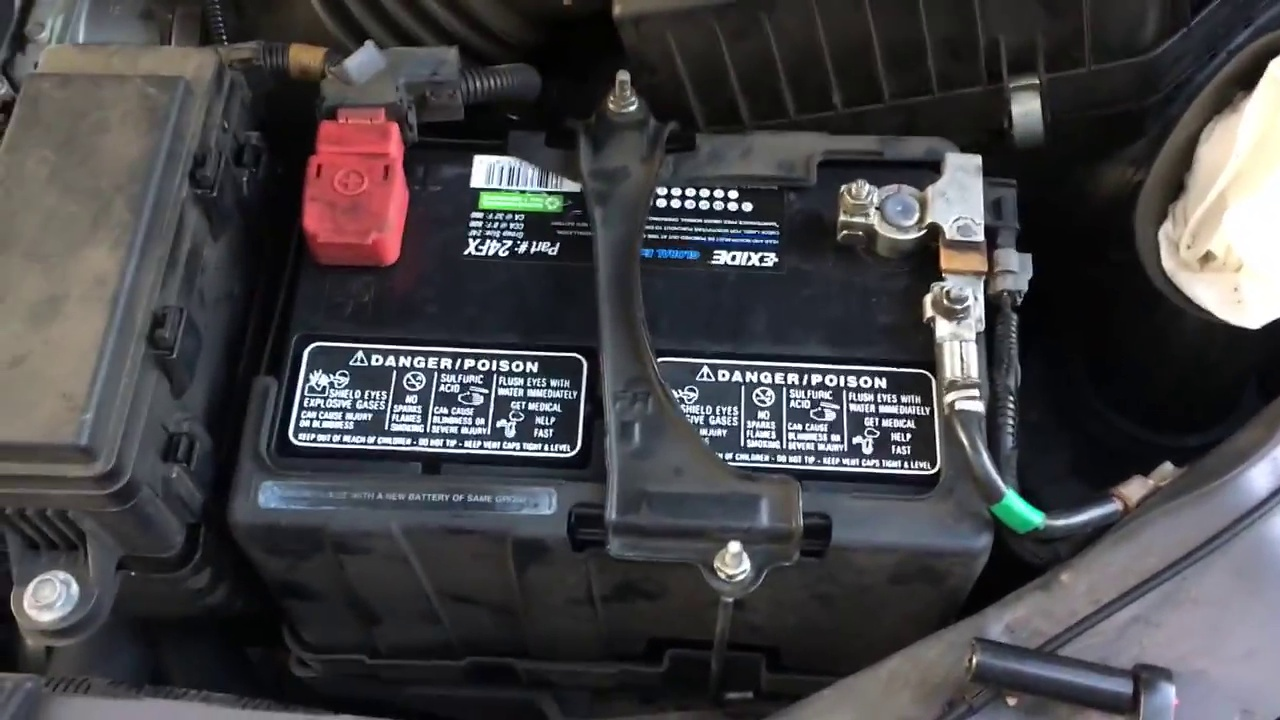battery: (280, 104, 1030, 537)
neg_connected: (809, 118, 1005, 345)
pos_connected: (283, 59, 446, 273)
